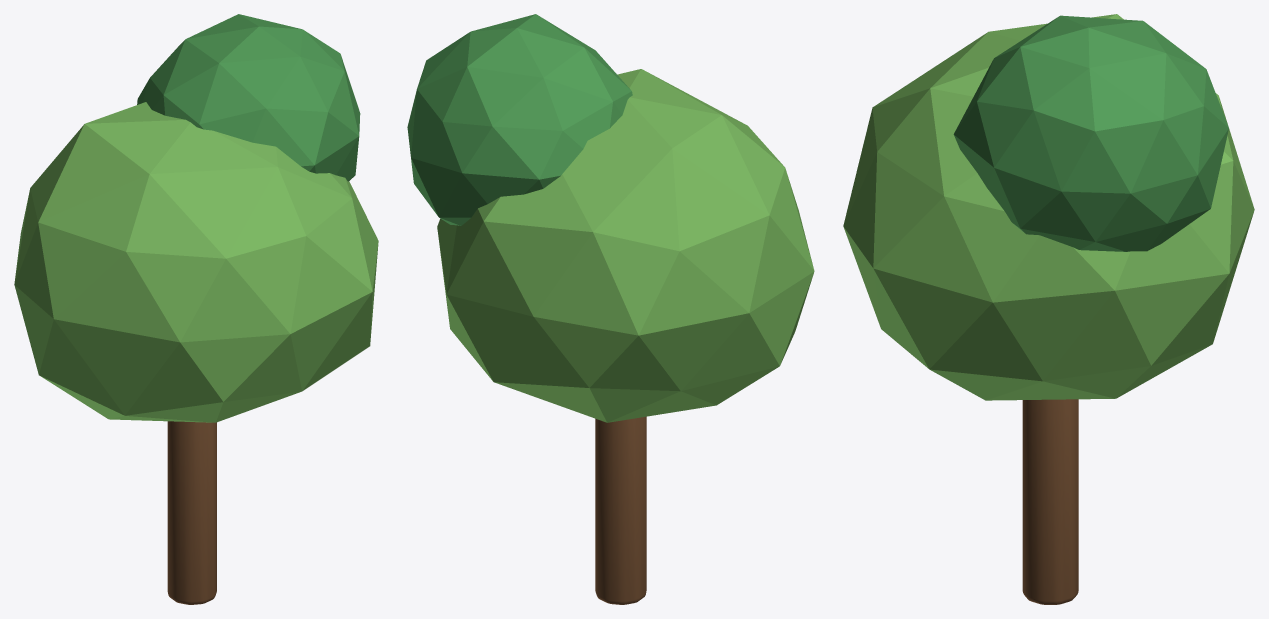
File: arvore_redonda.glb
3 renders of one model, left to right at view 1: azimuth 30°, elevation 25°; view 2: azimuth 150°, elevation 25°; view 3: azimuth 270°, elevation 25°, orthographic. The views are drawn at different scales.
Parts seen in each view (by area): view 1: Icosphere, Icosphere.001, Cylinder; view 2: Icosphere, Icosphere.001, Cylinder; view 3: Icosphere, Icosphere.001, Cylinder.
Part boxes in pixels (x1,y1,x2,y2): Icosphere: (14,102,378,422); Icosphere.001: (137,14,360,181); Cylinder: (167,421,216,604); Icosphere: (437,69,814,422); Icosphere.001: (407,14,632,225); Cylinder: (595,416,646,604); Icosphere: (843,14,1254,400); Icosphere.001: (953,15,1228,251); Cylinder: (1022,399,1078,604).
Size of the model in its own units: 1.95 by 2.99 by 1.82.
